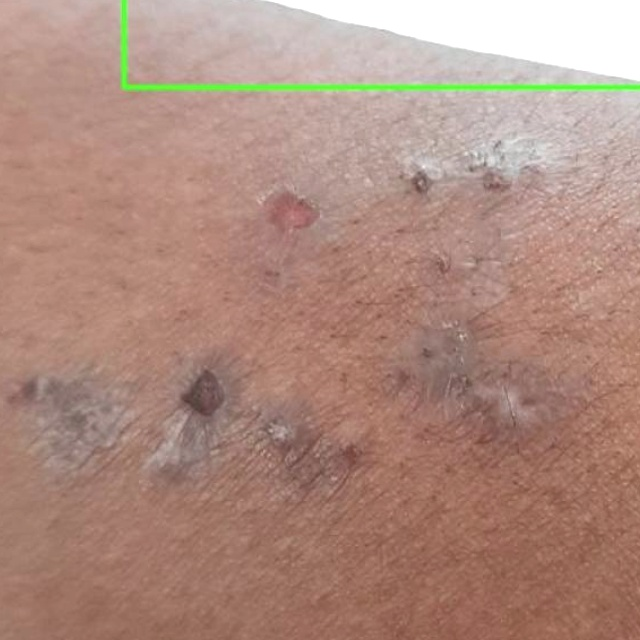Atopic Dermatitis: (123, 0, 639, 87)
